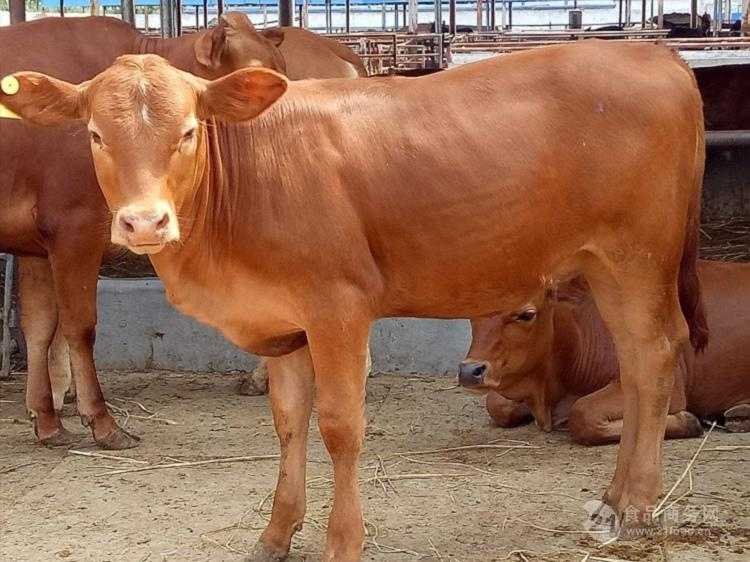background: (4, 32, 732, 562)
